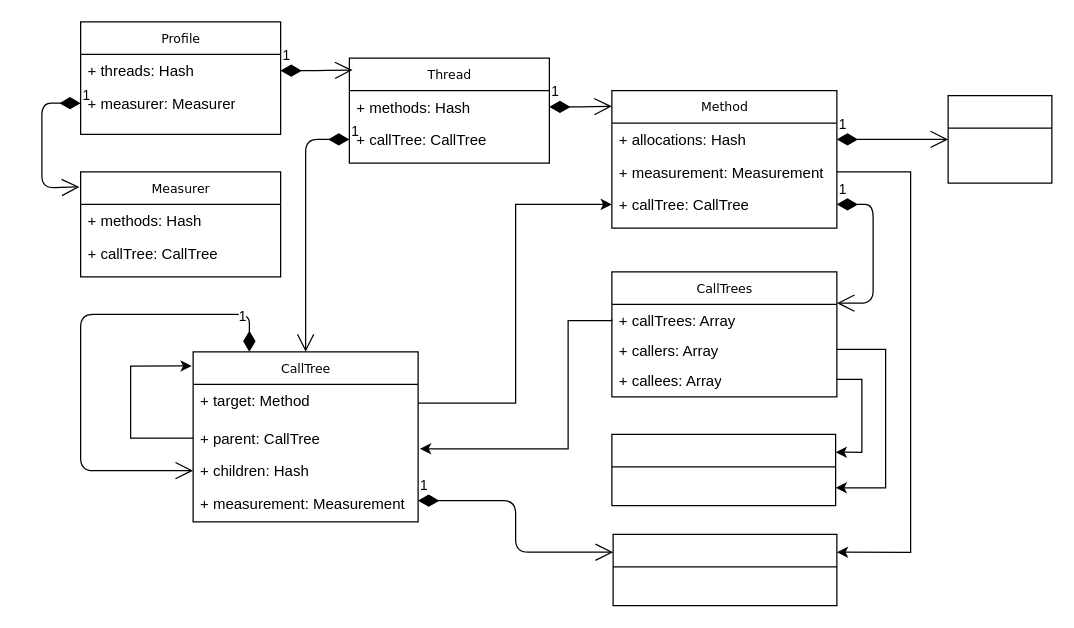
Image size: 1074x628. Some labels were removed from this diagram. Here are the shapes that lost their labels. From the top down, the centre of each, then its label:
At pixel 999 138: "Allocation".
At pixel 723 469: "AggreateCallTree".
At pixel 724 569: "Measurement".
